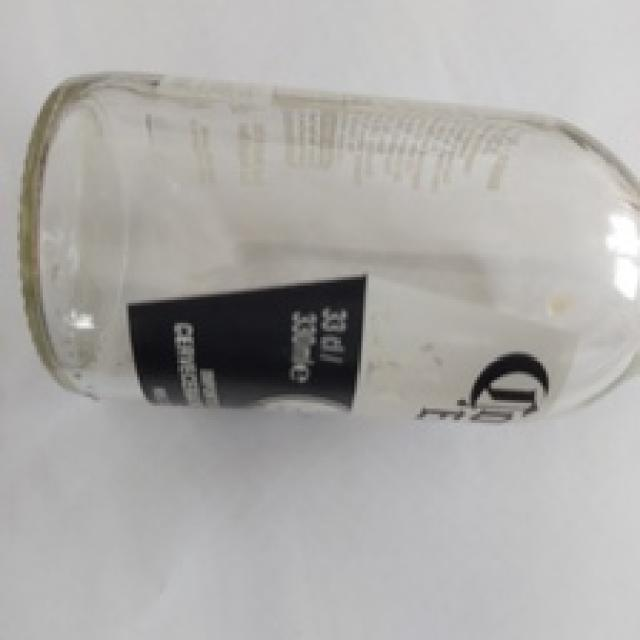Glass: (14, 70, 640, 424)
